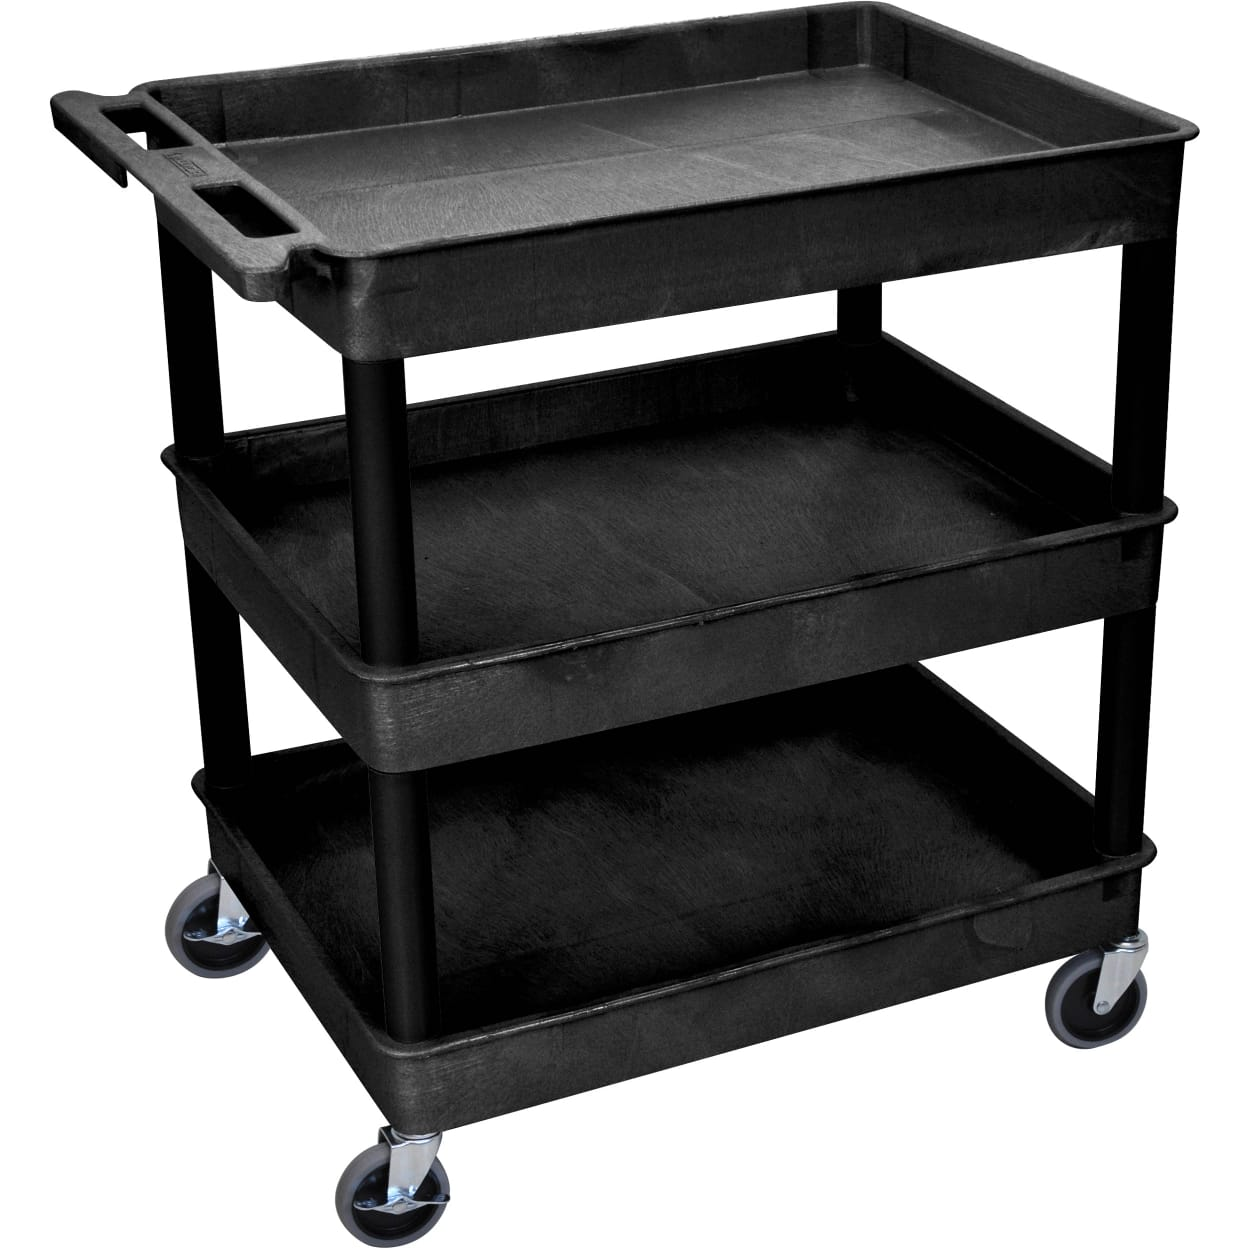Carts: (48, 2, 1208, 1250)
